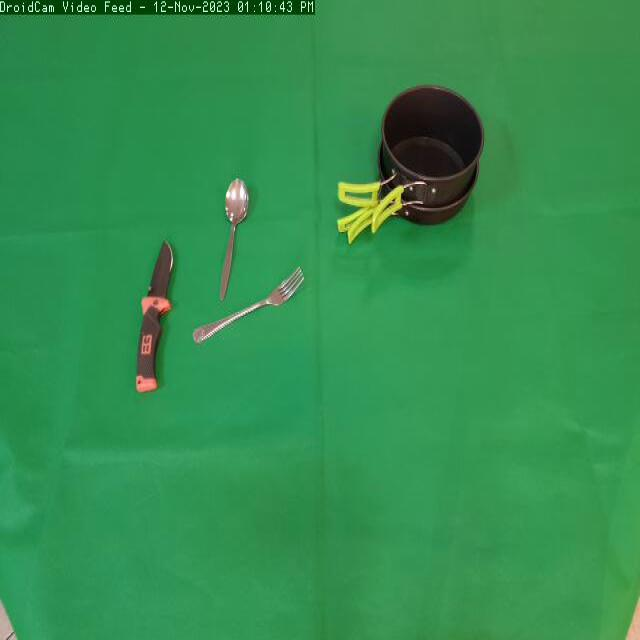fork: (193, 263, 310, 349)
knife: (125, 230, 184, 404)
pan: (336, 140, 483, 247)
pot: (330, 77, 488, 226)
spoon: (208, 170, 256, 304)
